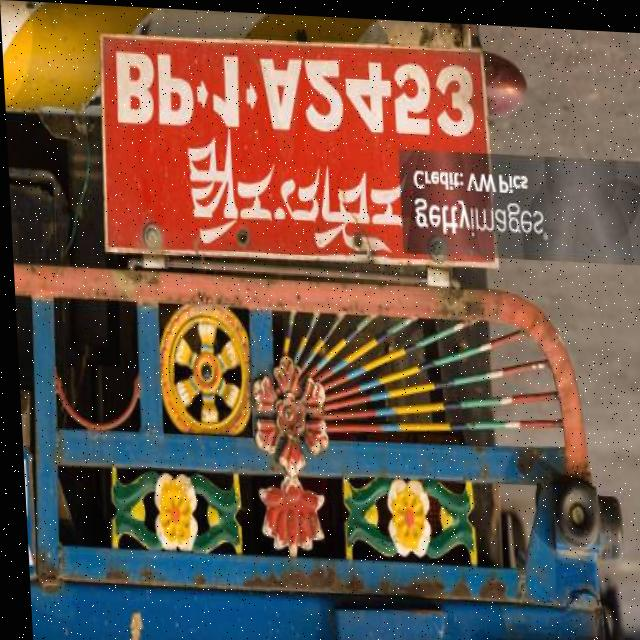plate: (97, 27, 487, 152)
